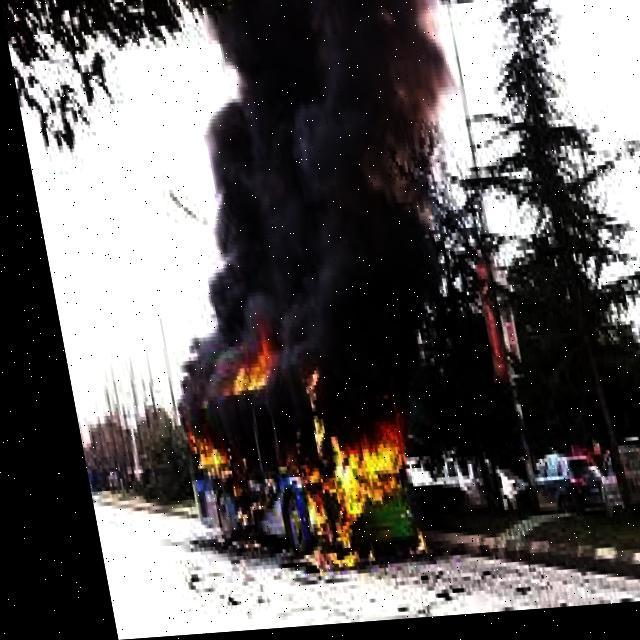Fire: (256, 377, 423, 596), (152, 372, 232, 482), (198, 317, 276, 417)
